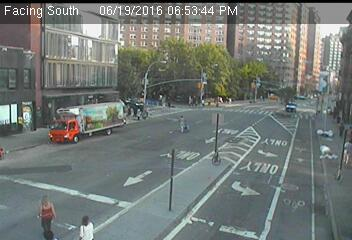neg: (82, 112, 93, 126), (116, 107, 126, 122), (103, 111, 112, 122)
pos: (174, 112, 192, 136), (132, 105, 145, 122)
